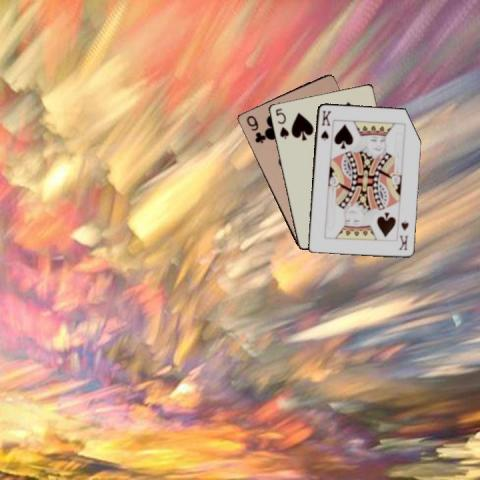5s: (273, 105, 290, 141)
9c: (243, 112, 266, 145)
Ks: (318, 107, 332, 142), (396, 218, 409, 252)
